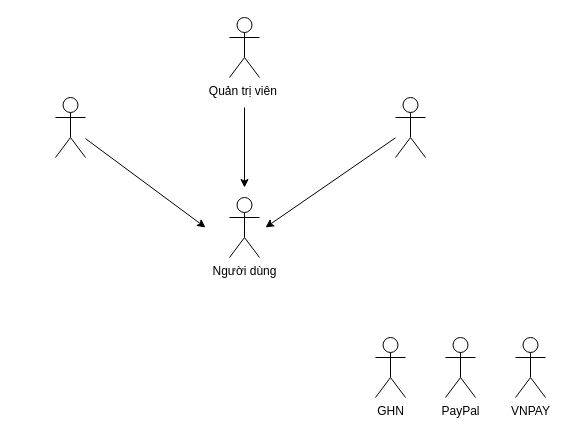
This 567x436 diagram has some shape labels left out. Here are the shapes that lost their labels. From the top down, the centre of each, then its label:
(x=70, y=127): Nhân viên bán hàng
(x=410, y=127): Khách hàng
